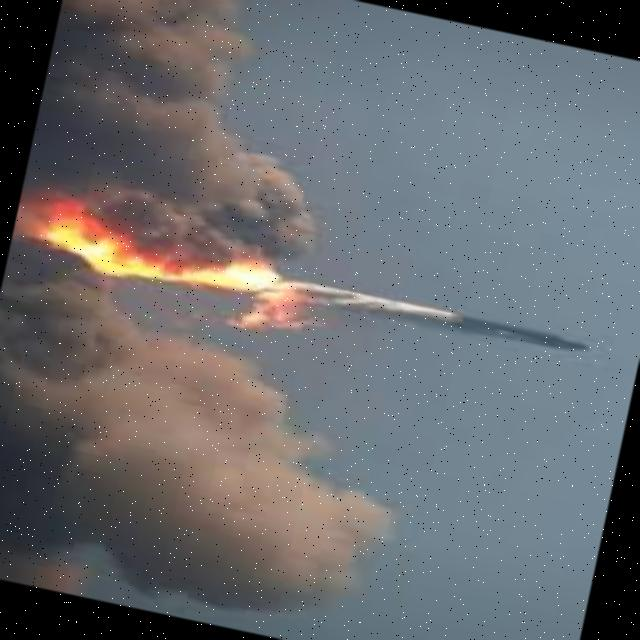explosion: (0, 0, 392, 625)
